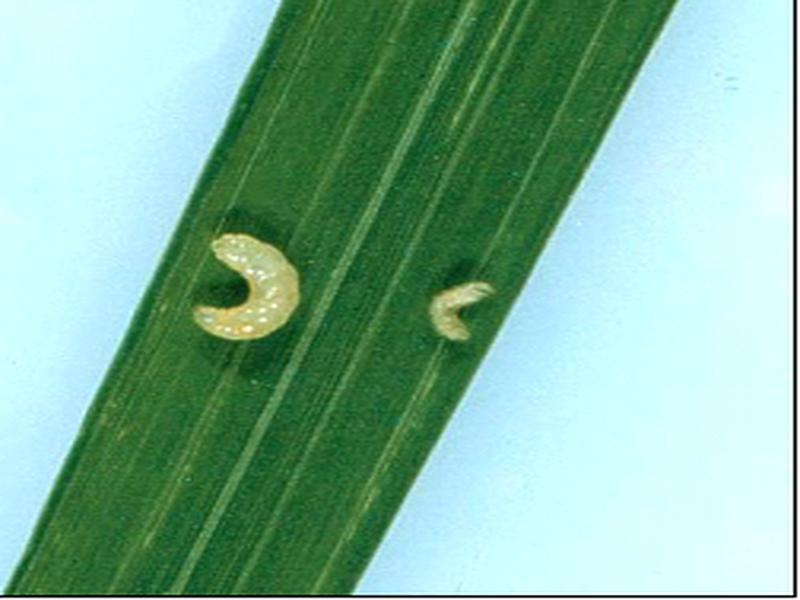Whorl_maggot: (188, 226, 310, 339), (429, 274, 493, 344)
